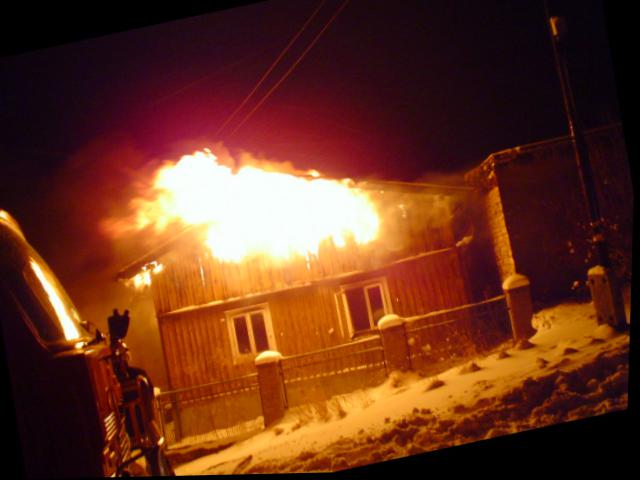fire: (105, 109, 387, 304)
